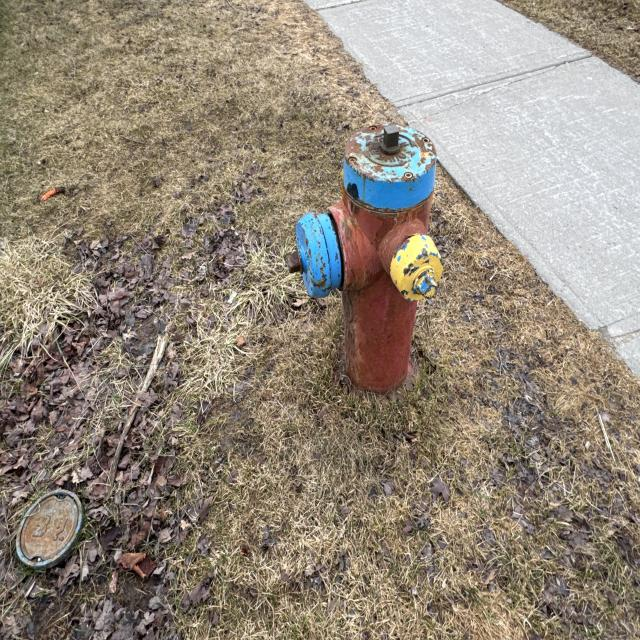Fire hydrant: (286, 123, 444, 409)
